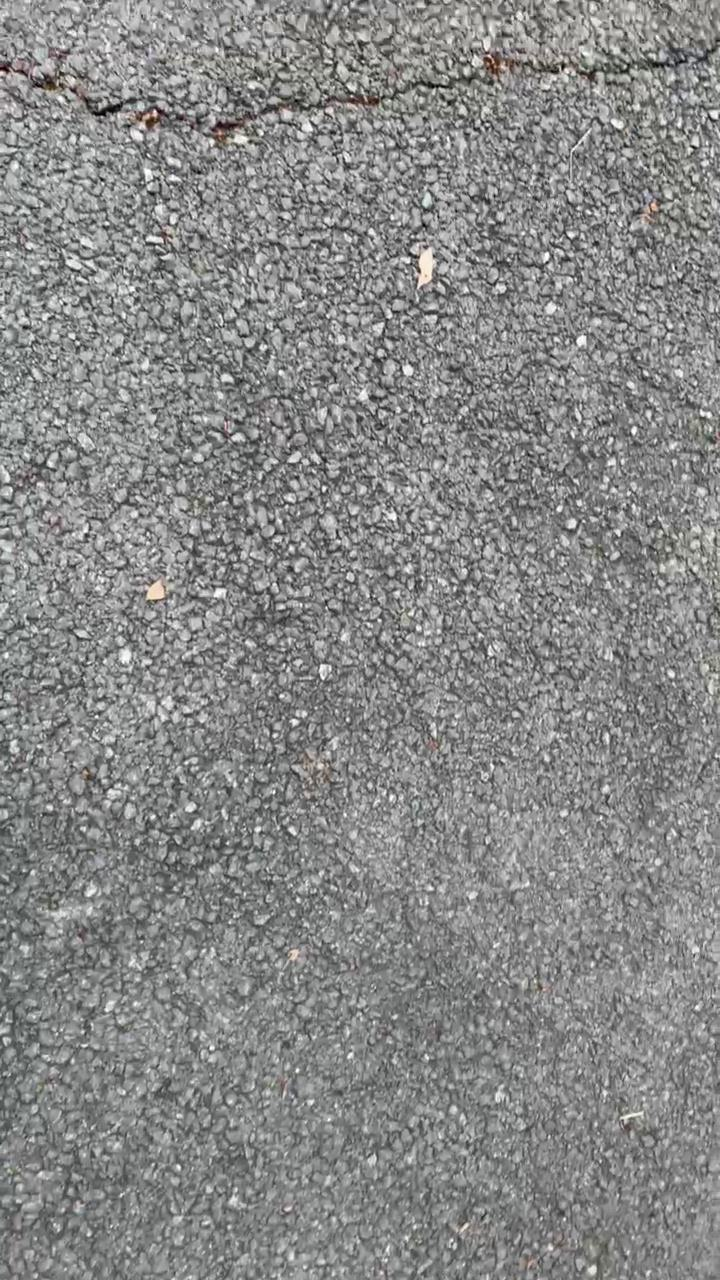Crack: (1, 41, 720, 139)
